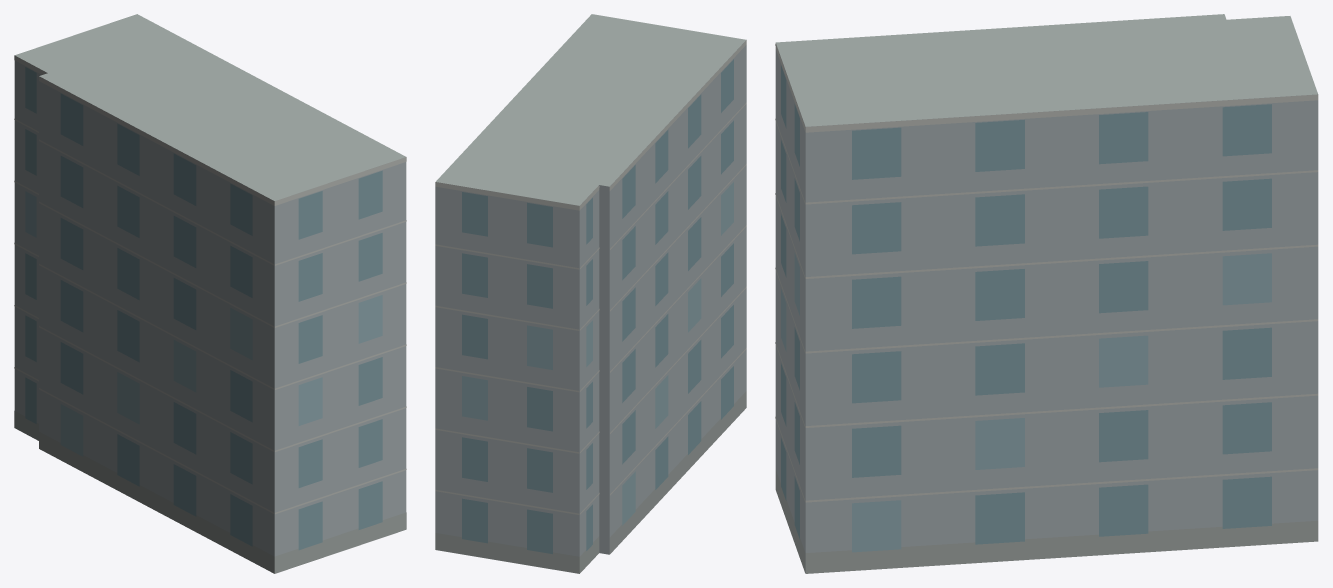
File: survey-upis-32763194.glb
3 renders of one model, left to right at view 1: azimuth 30°, elevation 25°; view 2: azimuth 150°, elevation 25°; view 3: azimuth 270°, elevation 25°, orthographic. The views are drawn at different scales.
Parts seen in each view (by area): view 1: survey-upis-32763194.tmp; view 2: survey-upis-32763194.tmp; view 3: survey-upis-32763194.tmp.
Part boxes in pixels (x1=…): survey-upis-32763194.tmp: x1=14, y1=14, x2=406, y2=573; survey-upis-32763194.tmp: x1=435, y1=14, x2=746, y2=573; survey-upis-32763194.tmp: x1=775, y1=14, x2=1318, y2=573.
Size of the model in its own units: 10.09 by 18.6 by 20.49.
